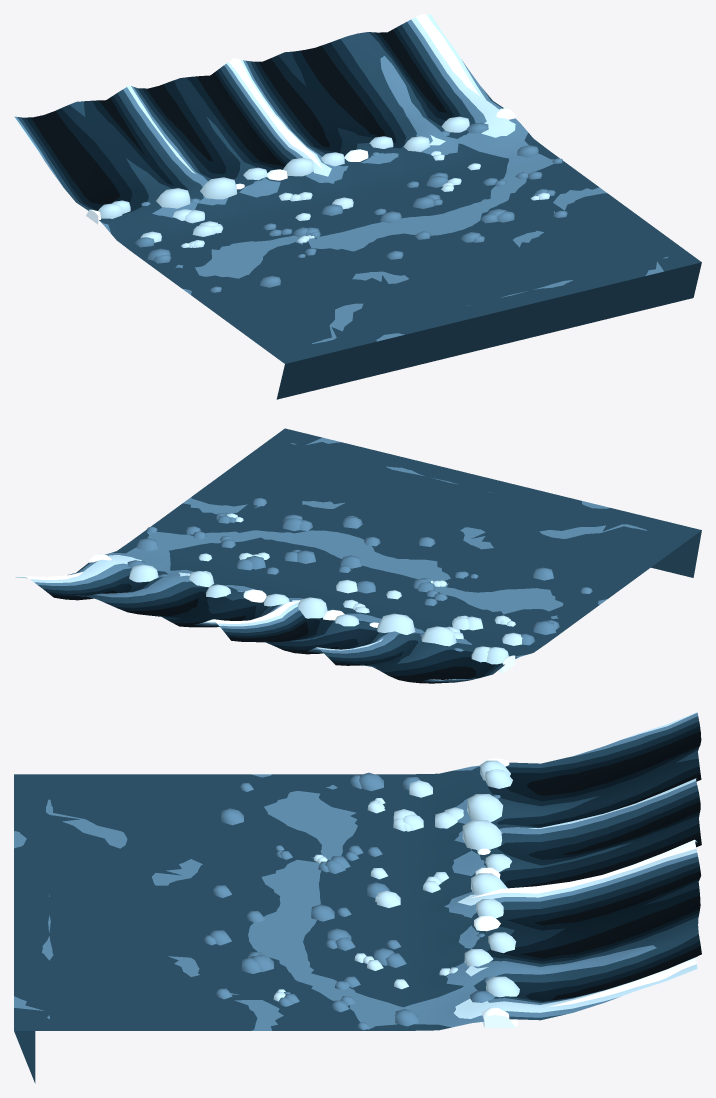
The model's file is torm_fall_bm_267.glb.
3 renders of one model, top to bottom at view 1: azimuth 30°, elevation 25°; view 2: azimuth 150°, elevation 25°; view 3: azimuth 270°, elevation 25°, orthographic. The views are drawn at different scales.
Parts seen in each view (by area): view 1: torm_fall_bm_267; view 2: torm_fall_bm_267; view 3: torm_fall_bm_267.
Boxes of the visible parts, x1=… form: torm_fall_bm_267: x1=14, y1=14, x2=701, y2=399; torm_fall_bm_267: x1=15, y1=428, x2=701, y2=683; torm_fall_bm_267: x1=14, y1=712, x2=701, y2=1083.
Size of the model in its own units: 24 by 5.33 by 27.19.
